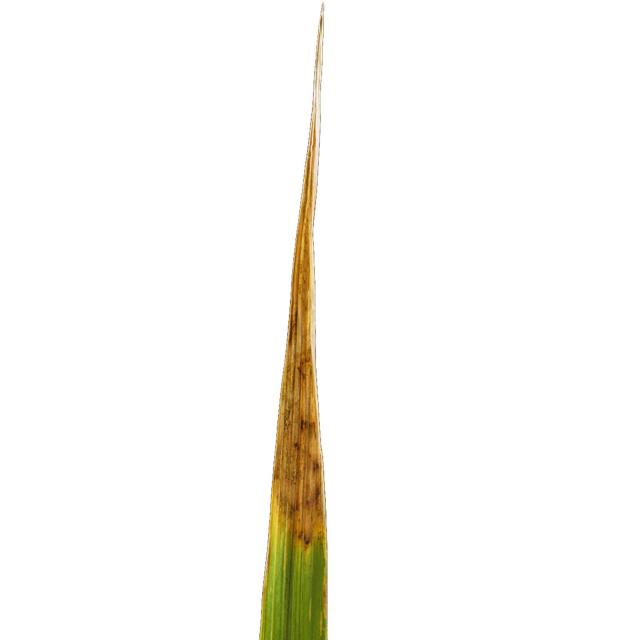Leaf scald: (228, 0, 450, 640)
